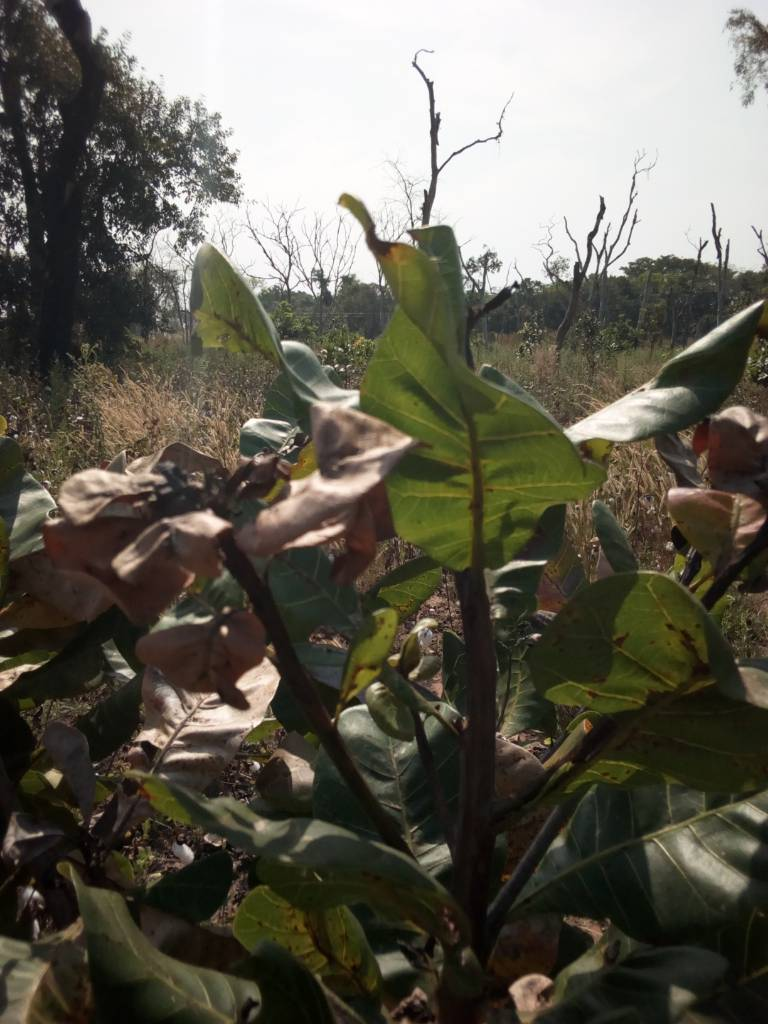Dessèchement des bourgeons: (415, 42, 465, 213)
